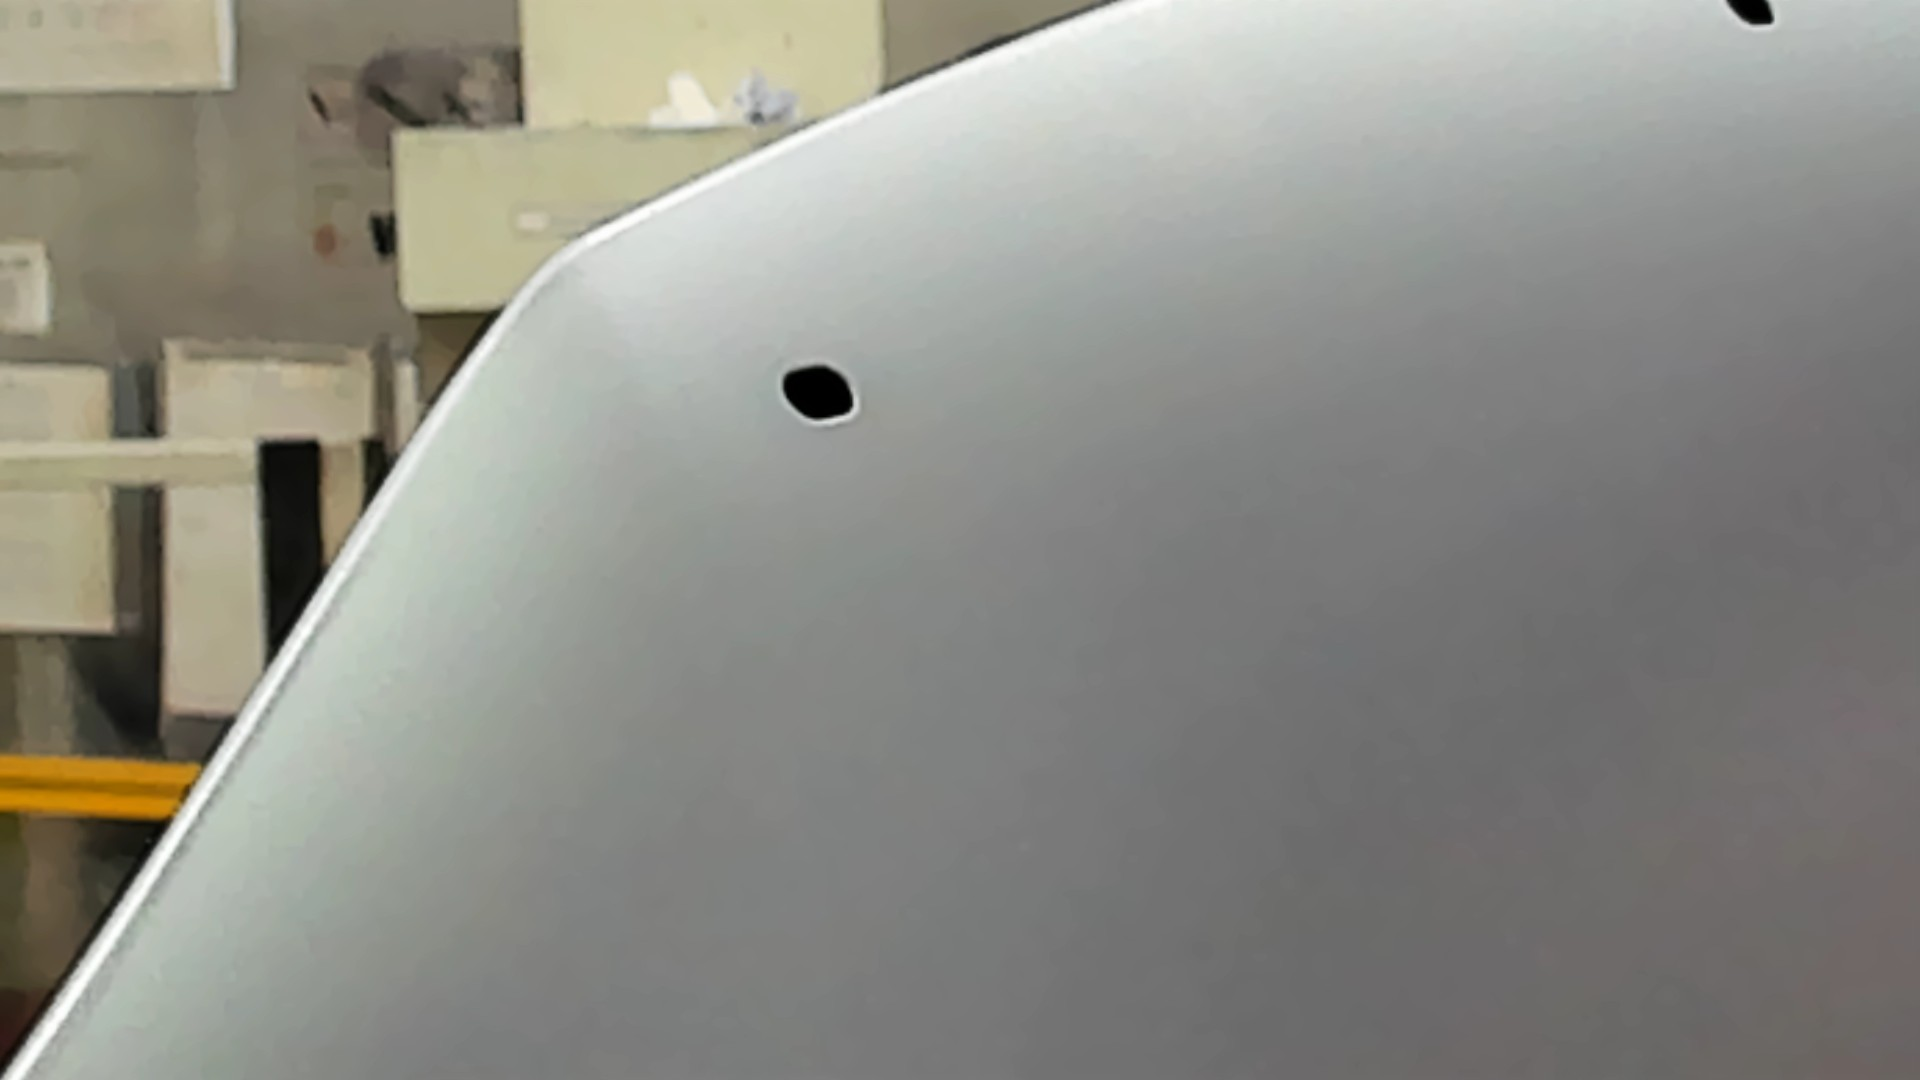amorfo: (777, 356, 860, 429), (1724, 1, 1778, 29)
